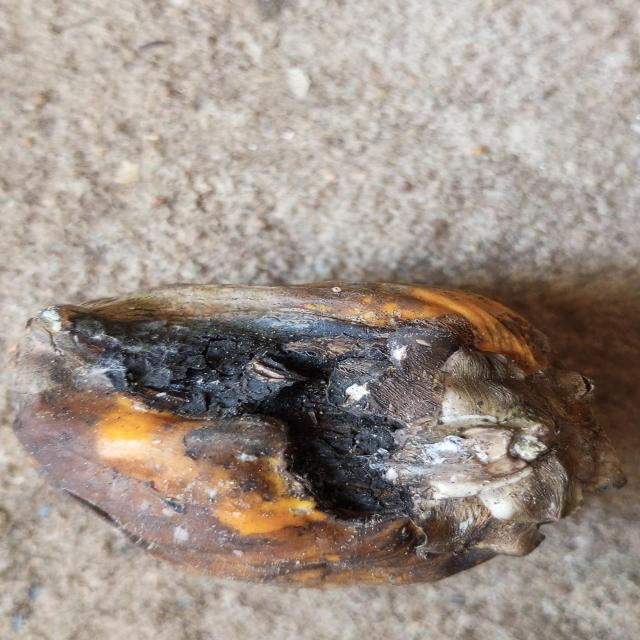damaged: (10, 281, 635, 593)
